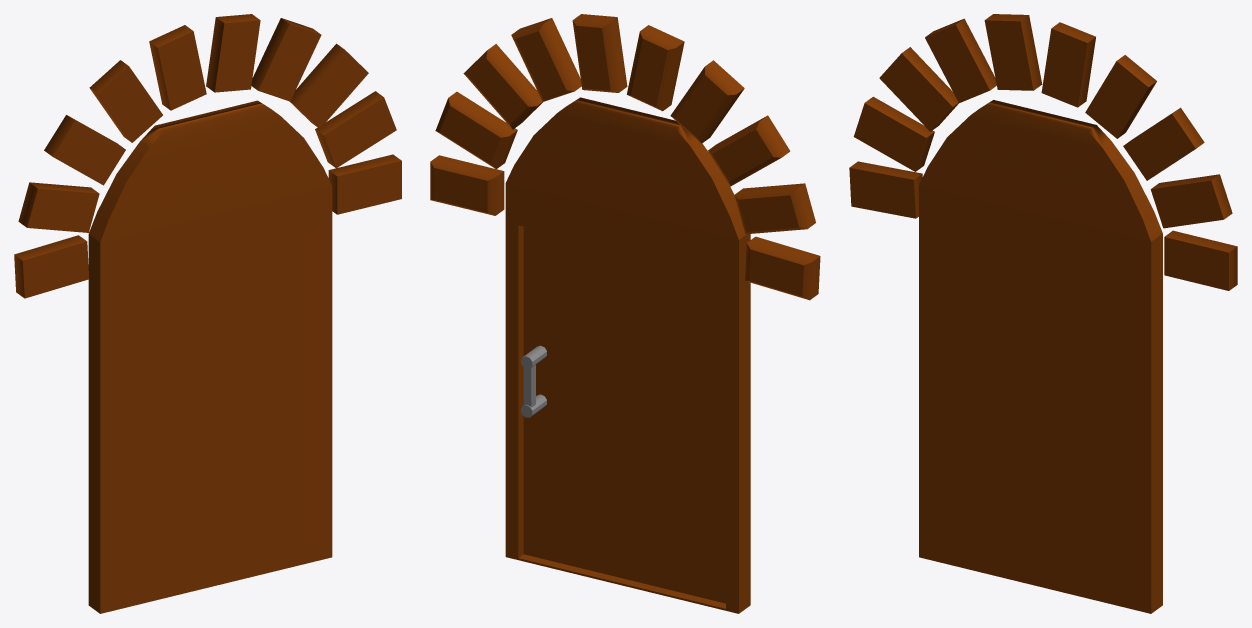
Rendered from house_template_20.fbx.
3 views of the same model, side by side, from view 1: azimuth 30°, elevation 25°; view 2: azimuth 150°, elevation 25°; view 3: azimuth 330°, elevation 25° (orthographic).
Visible parts, largest first — view 1: house template_20; view 2: house template_20; view 3: house template_20.
Part boxes in pixels (x1,y1,x2,y2): house template_20: (14,14,401,613); house template_20: (430,14,820,613); house template_20: (849,14,1237,613).
Bounding box in the file's own units: 242 × 339 × 23.14.
